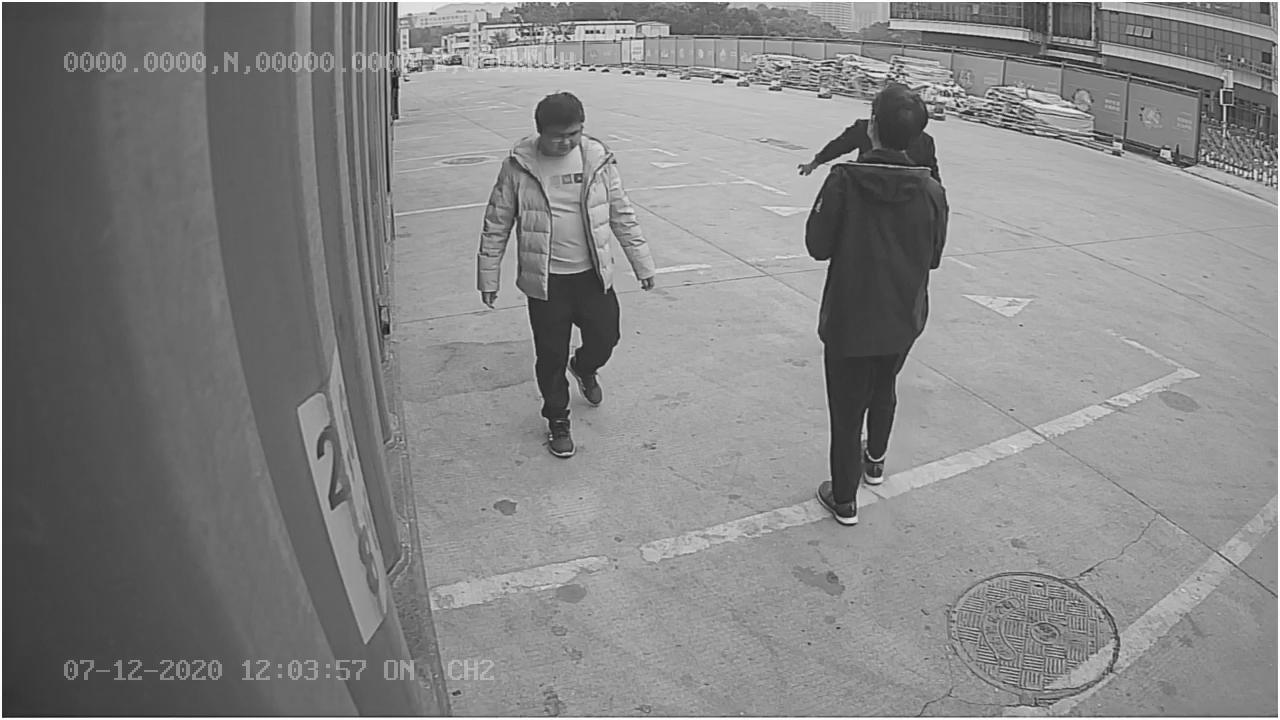person: (475, 87, 654, 462)
